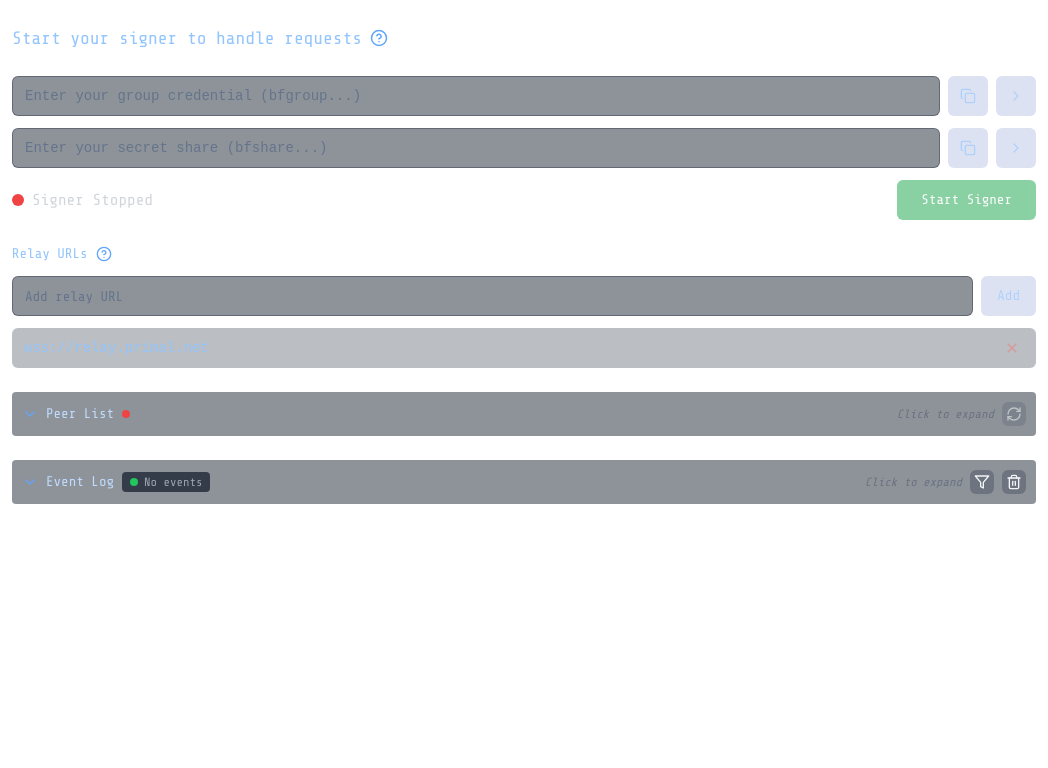
Signer Component UI Tests › User Interactions and UI Behavior › should allow removing relay URLs
In the field with placeholder "Add relay URL": (493, 296) [12, 276, 973, 316], type "wss://test-relay.com"
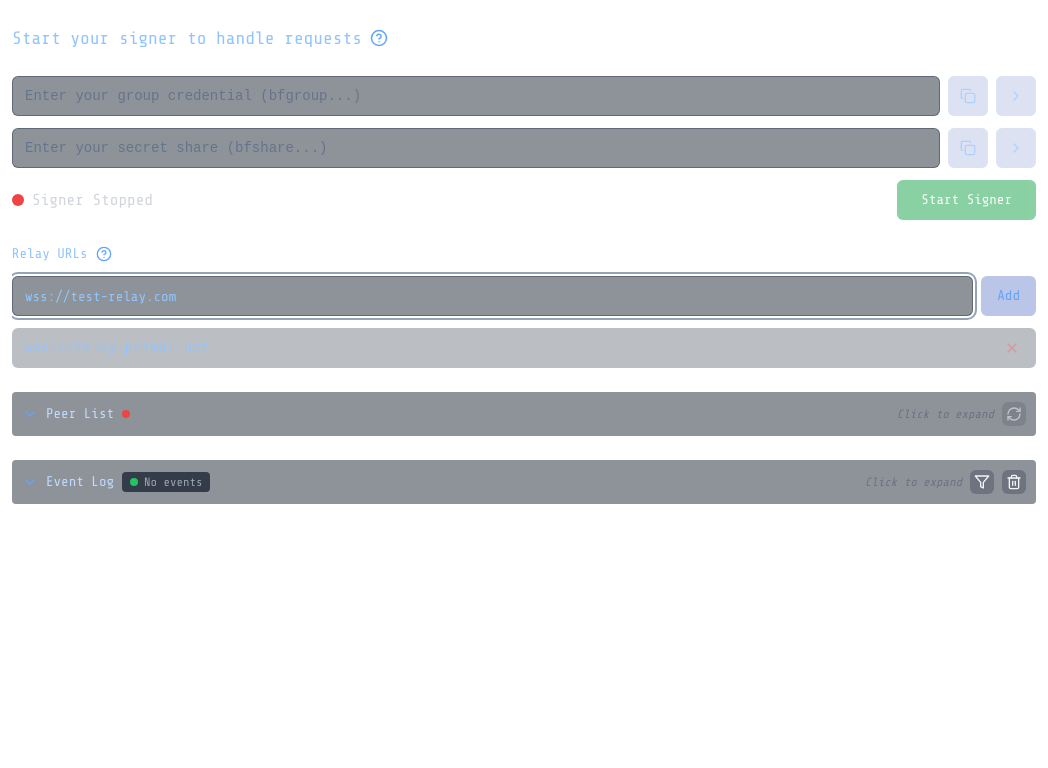
Click the button "Add": (1009, 296) [981, 276, 1036, 316]
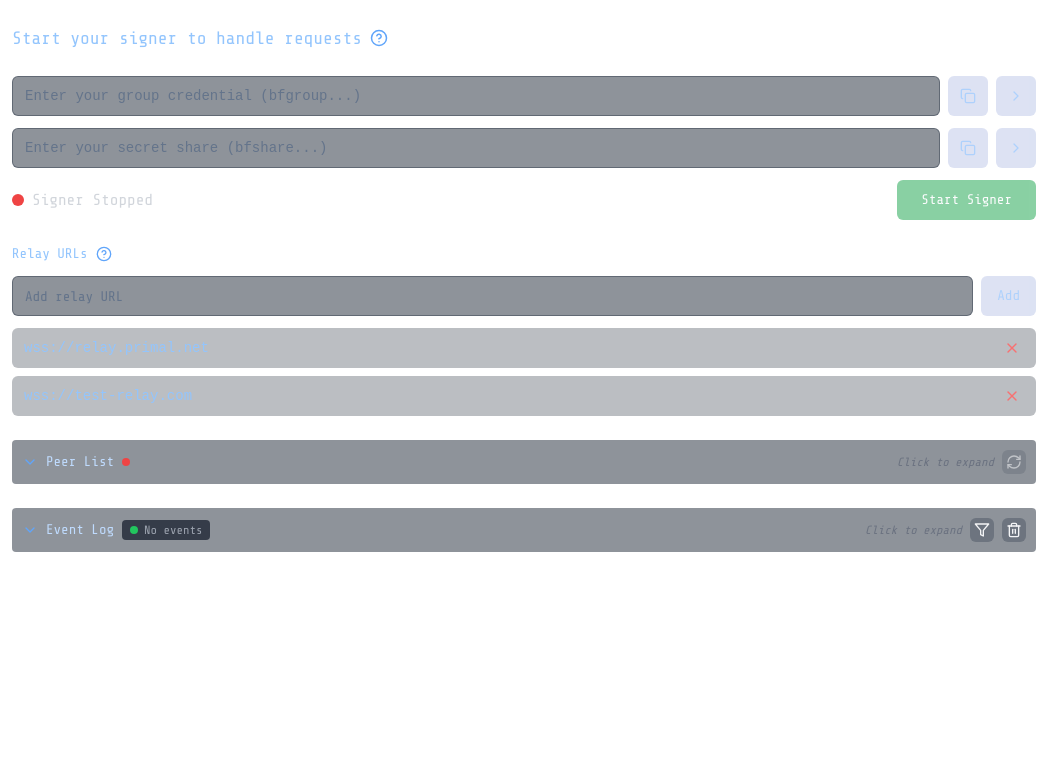
Now the text "wss://test-relay.com" is shown, box [24, 386, 192, 406]
Note: Click the last remove button (should be for the newly added relay)
Click the button named "Remove relay" in the row of "wss://test-relay.com": (1012, 396) [1000, 384, 1024, 408]
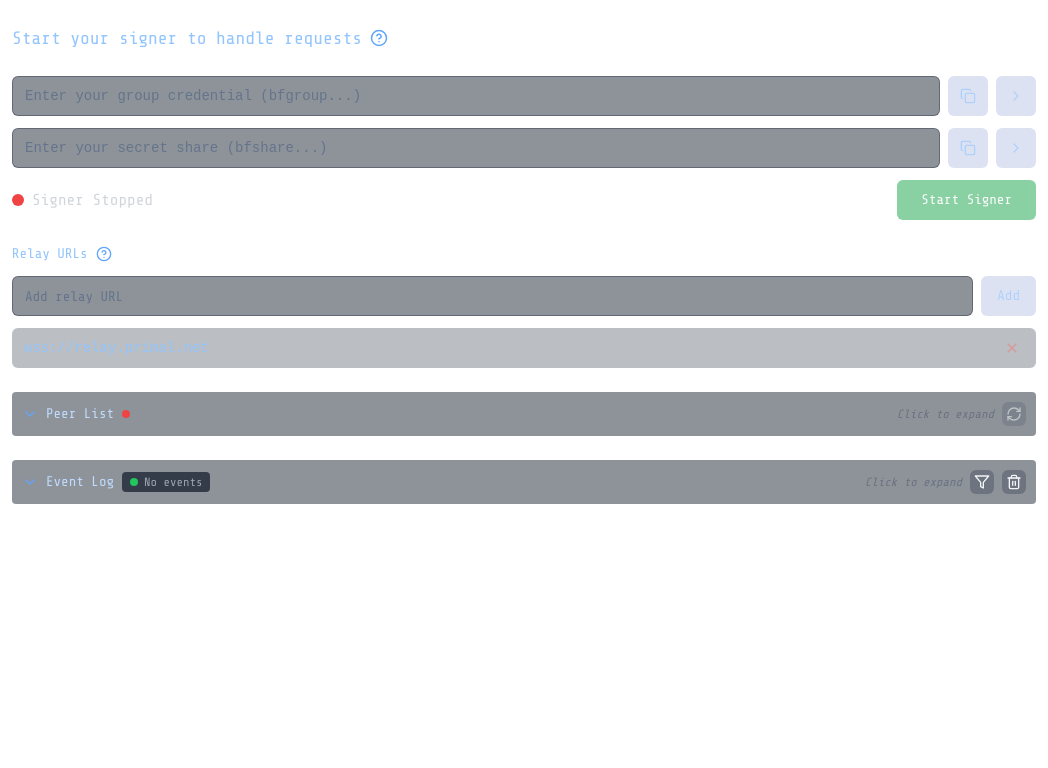
Now the text "wss://test-relay.com" is gone
